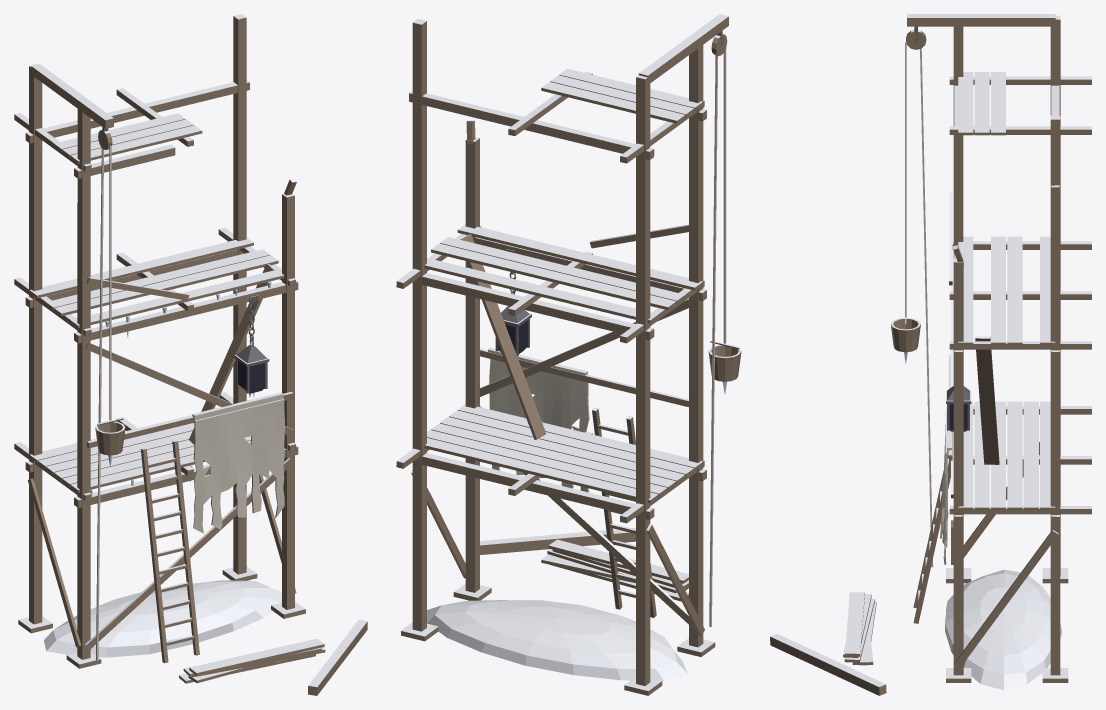
Rendered from PR_Andaime_Catedral.fbx.
3 views of the same model, side by side, from view 1: azimuth 30°, elevation 25°; view 2: azimuth 150°, elevation 25°; view 3: azimuth 270°, elevation 25° (orthographic). The views are drawn at different scales.
Visible parts, largest first — view 1: PR_Andaime_Catedral; view 2: PR_Andaime_Catedral; view 3: PR_Andaime_Catedral.
Boxes of the visible parts, x1=… form: PR_Andaime_Catedral: x1=14, y1=14, x2=367, y2=695; PR_Andaime_Catedral: x1=396, y1=14, x2=741, y2=695; PR_Andaime_Catedral: x1=770, y1=14, x2=1091, y2=695.
Size of the model in its own units: 4.94 by 10.28 by 5.31.
